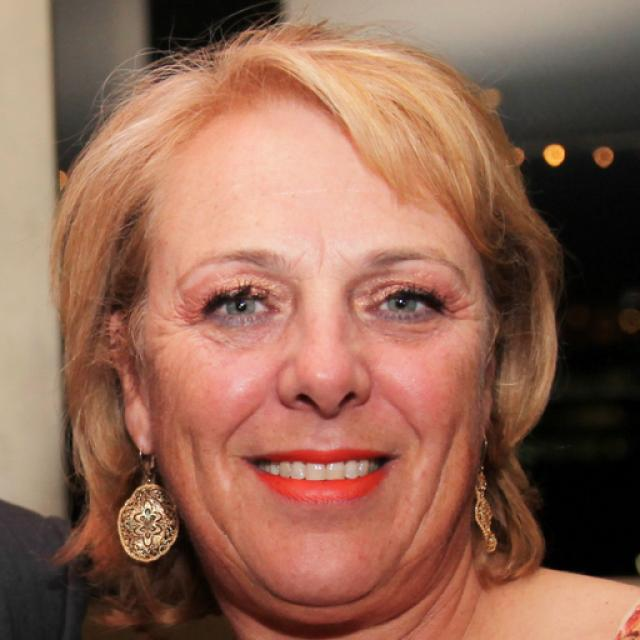Wrinkle: (405, 426, 460, 554), (390, 396, 427, 497), (221, 405, 262, 467)
